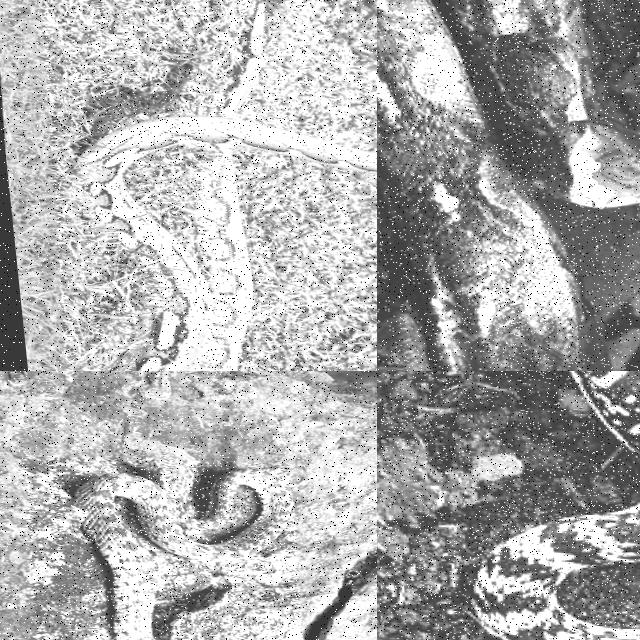Chrysopelea ornata: (477, 504, 639, 639)
Malayopython reticulatus: (79, 0, 376, 370), (377, 0, 580, 370)
Ovophis monticola: (74, 460, 293, 639)
